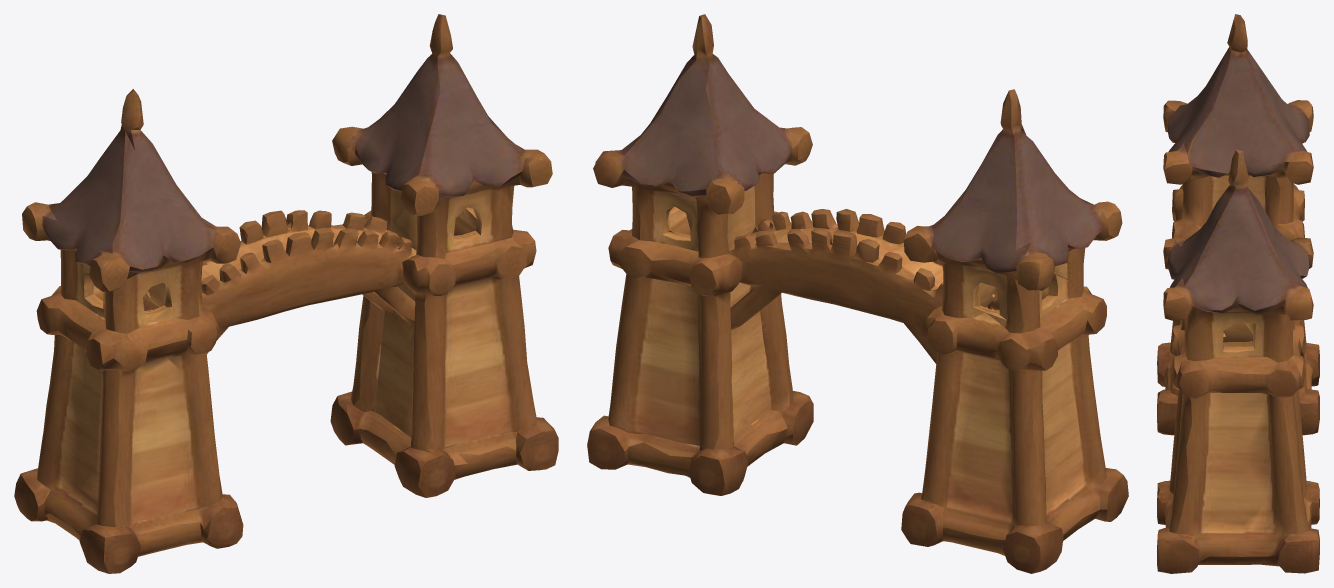
Rendered from a-wooden-village-gate-between-tw-8471d2.glb.
3 views of the same model, side by side, from view 1: azimuth 30°, elevation 25°; view 2: azimuth 150°, elevation 25°; view 3: azimuth 270°, elevation 25° (orthographic). The views are drawn at different scales.
Visible parts, largest first — view 1: geometry_0; view 2: geometry_0; view 3: geometry_0.
Part boxes in pixels (x1,y1,x2,y2): geometry_0: [14, 14, 558, 573]; geometry_0: [587, 14, 1128, 573]; geometry_0: [1157, 14, 1319, 573].
Size of the model in its own units: 1 by 0.9141 by 0.3423.
1 material, 1 textured.
